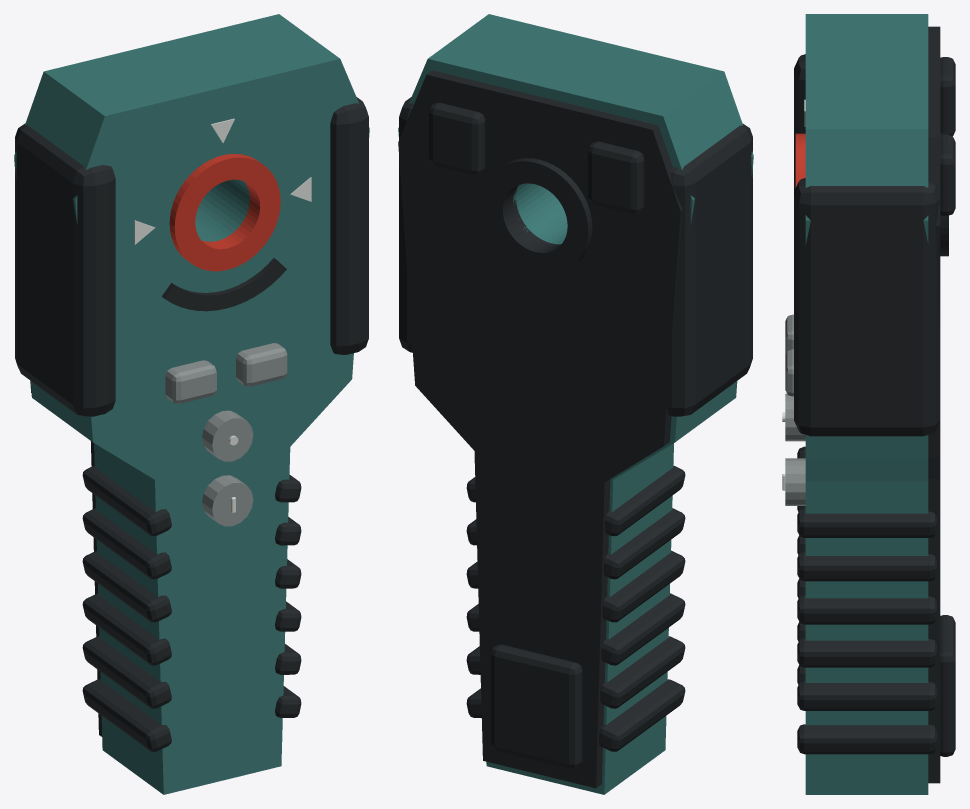
The model's file is A-NEW-20261026-WALL-SCANNER-001_LOD1_R1.fbx.
3 views of the same model, side by side, from view 1: azimuth 30°, elevation 25°; view 2: azimuth 150°, elevation 25°; view 3: azimuth 270°, elevation 25° (orthographic).
Visible parts, largest first — view 1: wide head and narrow grip closed shell, head side bumper, head side bumper.001, red through marking rim, diagonal grip rib, diagonal grip rib.002, diagonal grip rib.004, diagonal grip rib.006, diagonal grip rib.008, inactive curved indicator, diagonal grip rib.010, round speaker button (+3 smaller); view 2: generic closed rear contact cover, wide head and narrow grip closed shell, head side bumper, rear lower contact pad, rear hole support rim, rear upper contact pad.001, rear upper contact pad, diagonal grip rib, diagonal grip rib.002, diagonal grip rib.004, diagonal grip rib.006, diagonal grip rib.008 (+2 smaller); view 3: wide head and narrow grip closed shell, head side bumper.001, generic closed rear contact cover, diagonal grip rib.001, diagonal grip rib.003, diagonal grip rib.005, diagonal grip rib.007, diagonal grip rib.009, diagonal grip rib.011, rear lower contact pad, rear upper contact pad.001, rear upper contact pad (+6 smaller).
Boxes of the visible parts, x1,y1,x2,y2 form: wide head and narrow grip closed shell: (14,14,369,794); head side bumper: (15,123,115,416); head side bumper.001: (330,97,368,354); red through marking rim: (169,154,280,271); diagonal grip rib: (82,679,171,751); diagonal grip rib.002: (82,636,171,708); diagonal grip rib.004: (82,593,171,665); diagonal grip rib.006: (82,550,171,622); diagonal grip rib.008: (82,508,171,579); inactive curved indicator: (162,258,286,311); diagonal grip rib.010: (82,465,171,536); round speaker button: (202,410,253,461); generic closed rear contact cover: (398,70,682,788); wide head and narrow grip closed shell: (398,14,753,794); head side bumper: (666,123,752,416); rear lower contact pad: (491,644,582,768); rear hole support rim: (482,158,592,274); rear upper contact pad.001: (429,102,485,175); rear upper contact pad: (588,141,644,213); diagonal grip rib: (599,679,685,751); diagonal grip rib.002: (600,636,685,708); diagonal grip rib.004: (601,593,685,665); diagonal grip rib.006: (602,550,685,622); diagonal grip rib.008: (603,508,685,579); wide head and narrow grip closed shell: (805,14,928,794); head side bumper.001: (794,178,940,436); generic closed rear contact cover: (928,26,940,783); diagonal grip rib.001: (797,724,936,754); diagonal grip rib.003: (797,681,936,710); diagonal grip rib.005: (797,637,936,667); diagonal grip rib.007: (797,594,936,624); diagonal grip rib.009: (797,551,936,581); diagonal grip rib.011: (797,508,936,537); rear lower contact pad: (940,615,955,756); rear upper contact pad.001: (940,134,955,215); rear upper contact pad: (940,57,955,136).
Bounding box in the file's own units: 10 × 22.5 × 5.09.
